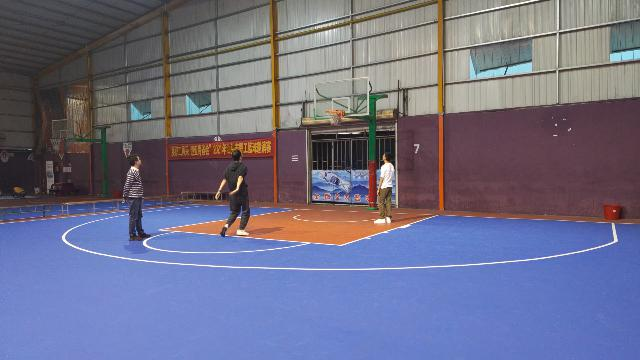basket: (324, 110, 344, 124), (49, 137, 61, 149)
goal: (332, 114, 342, 122)
